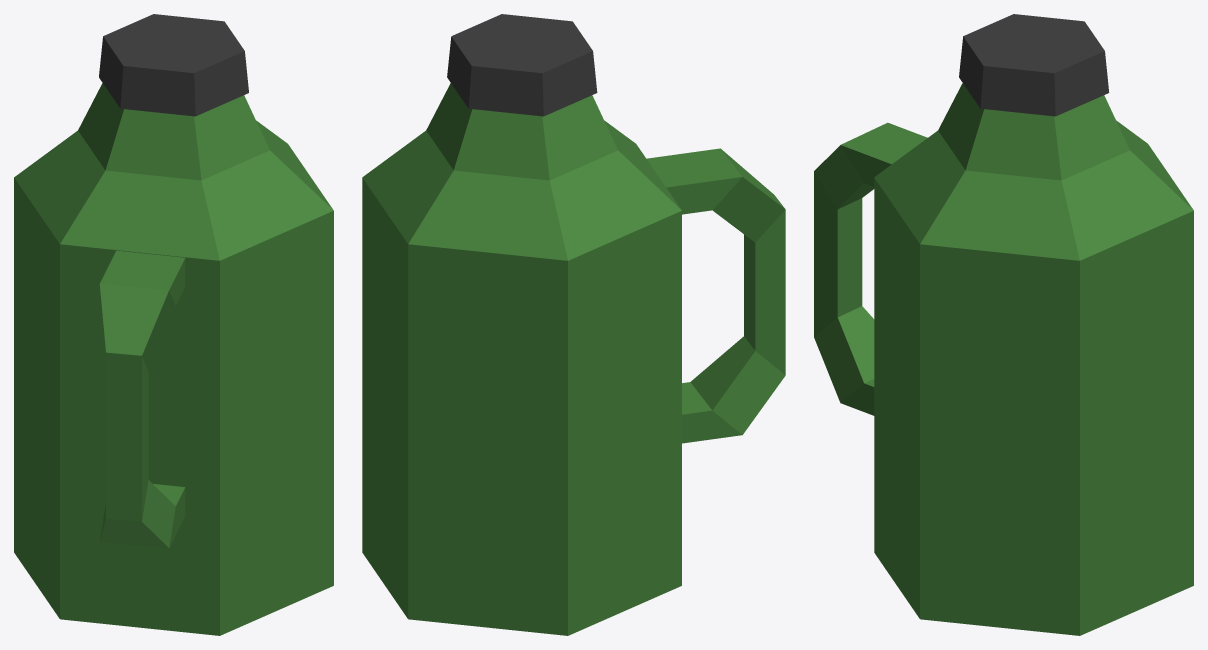
The model's file is Garage_Bottle1.fbx.
The picture shows the model from 3 angles, left to right: view 1: azimuth 30°, elevation 25°; view 2: azimuth 150°, elevation 25°; view 3: azimuth 270°, elevation 25°; orthographic projection.
Visible parts, largest first — view 1: Garage_Bottle1; view 2: Garage_Bottle1; view 3: Garage_Bottle1.
Boxes of the visible parts, x1,y1,x2,y2 form: Garage_Bottle1: (14, 14, 333, 635); Garage_Bottle1: (362, 14, 785, 635); Garage_Bottle1: (814, 14, 1193, 635).
Bounding box in the file's own units: 23.35 × 38.73 × 25.38.
